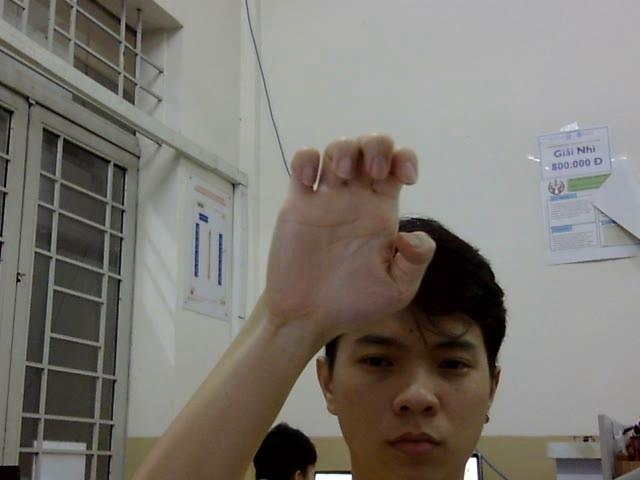E: (265, 130, 435, 328)
